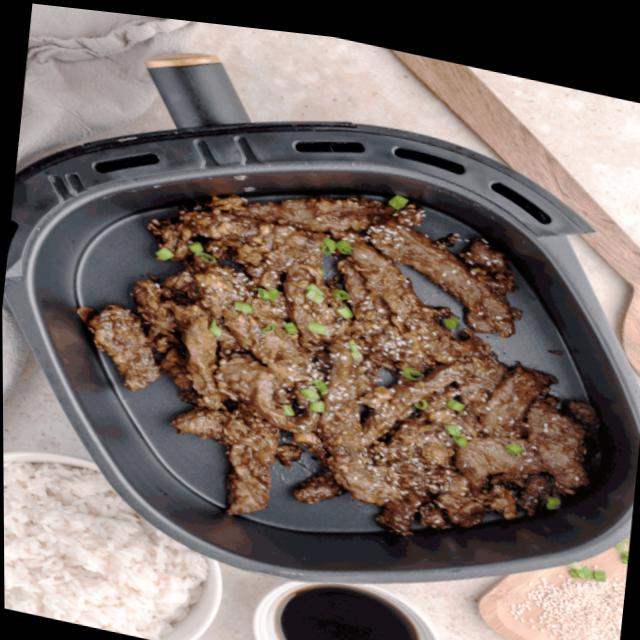Beijing Beef: (95, 129, 640, 597)
rice: (3, 448, 215, 640)
